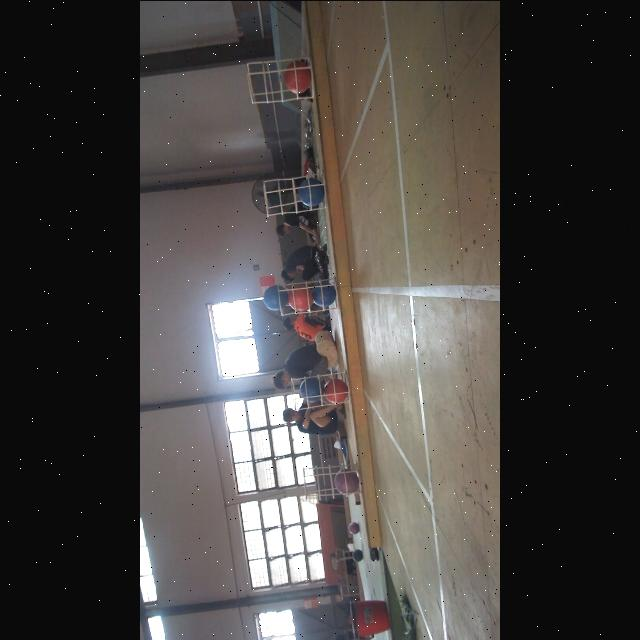B: (298, 177, 326, 205), (263, 284, 289, 310), (300, 377, 324, 401), (312, 282, 336, 306)
R: (285, 62, 311, 92), (288, 284, 314, 310), (324, 378, 348, 402)
